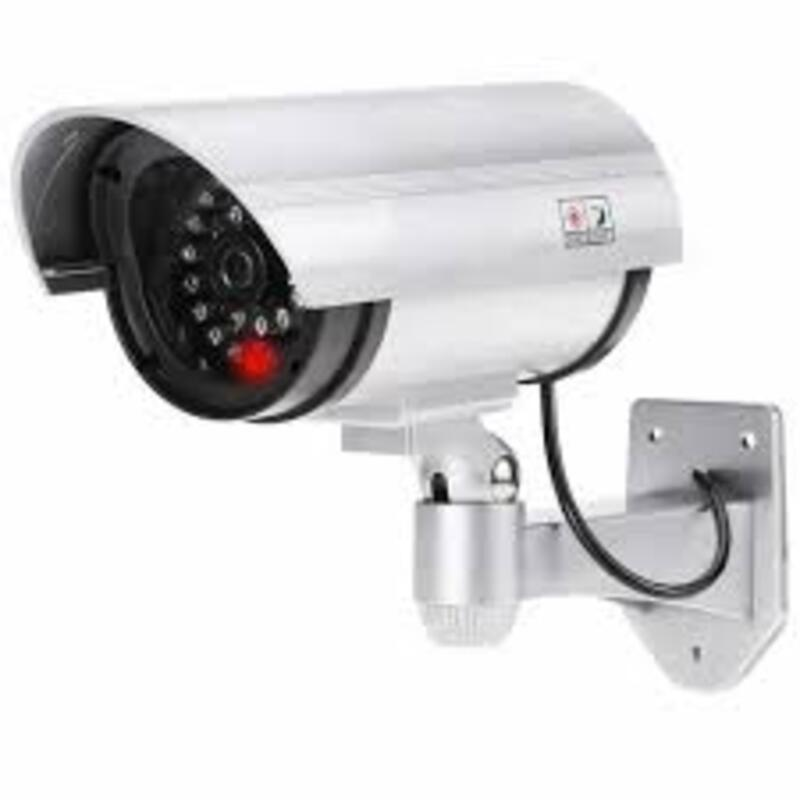bullet: (12, 91, 706, 408)
